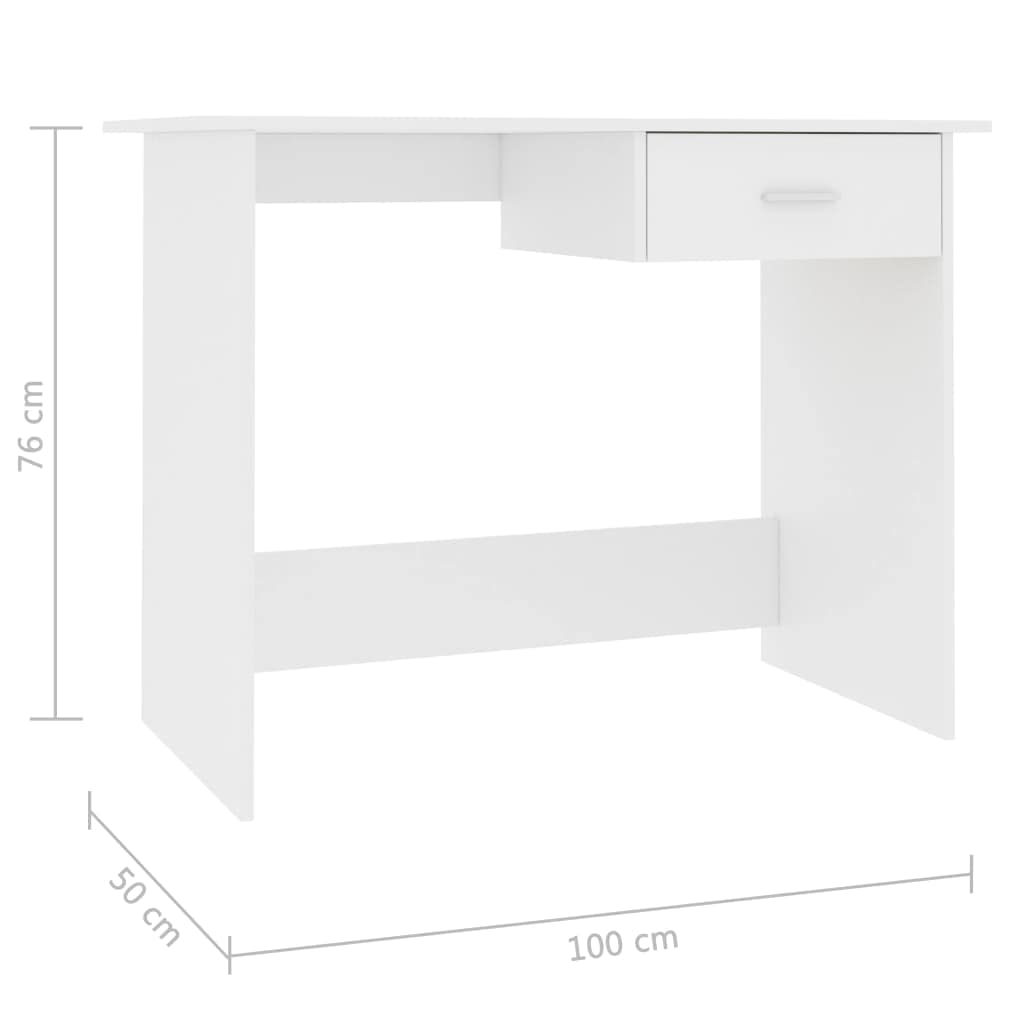100: (568, 930, 623, 962)
Wd: (24, 381, 43, 424)
cm: (635, 930, 678, 952)
